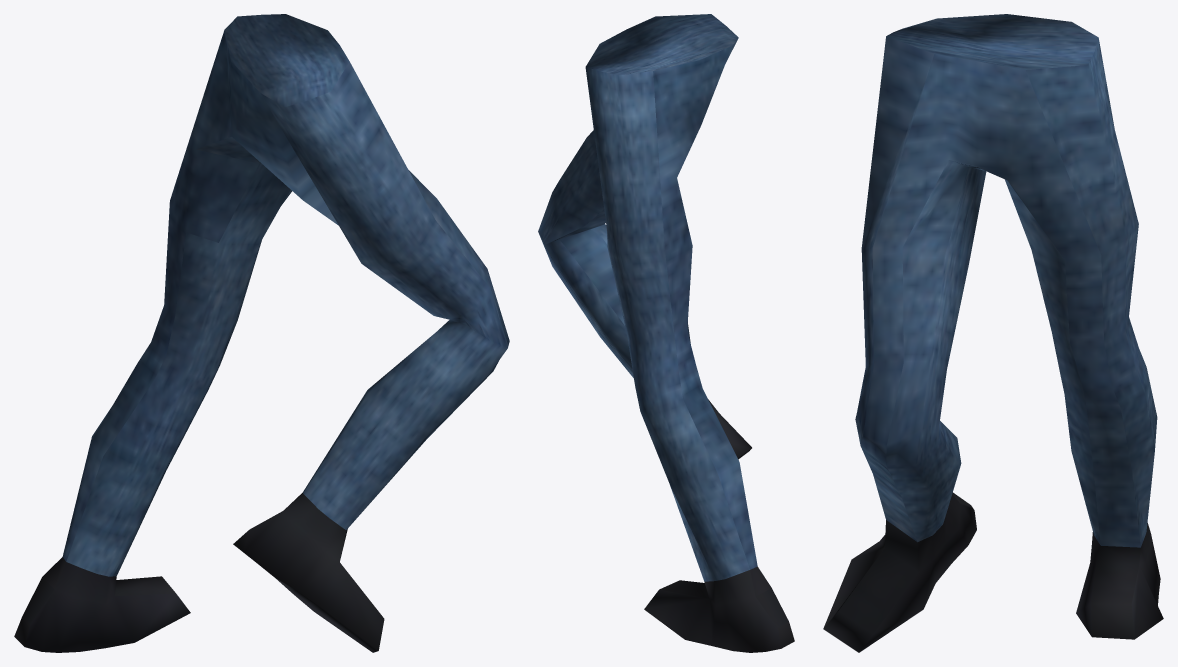
File: PlayerLegs5.obj
3 views of the same model, side by side, from view 1: azimuth 30°, elevation 25°; view 2: azimuth 150°, elevation 25°; view 3: azimuth 270°, elevation 25° (orthographic). The views are drawn at different scales.
Parts seen in each view (by area): view 1: Legs; view 2: Legs; view 3: Legs.
Boxes of the visible parts, bbox=[...] form: Legs: bbox=[14, 14, 509, 652]; Legs: bbox=[538, 14, 794, 652]; Legs: bbox=[823, 14, 1163, 652].
Bounding box in the file's own units: 3.07 × 4.58 × 2.21.
1 material, 1 textured.
